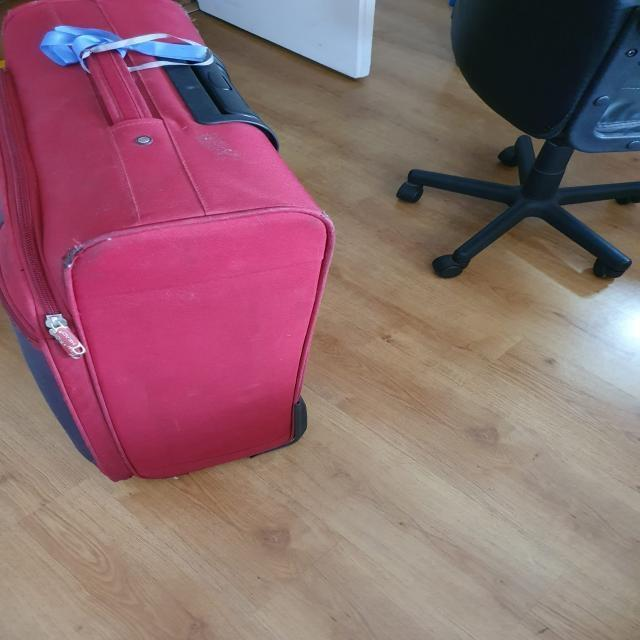Suitcase: (0, 0, 339, 483)
